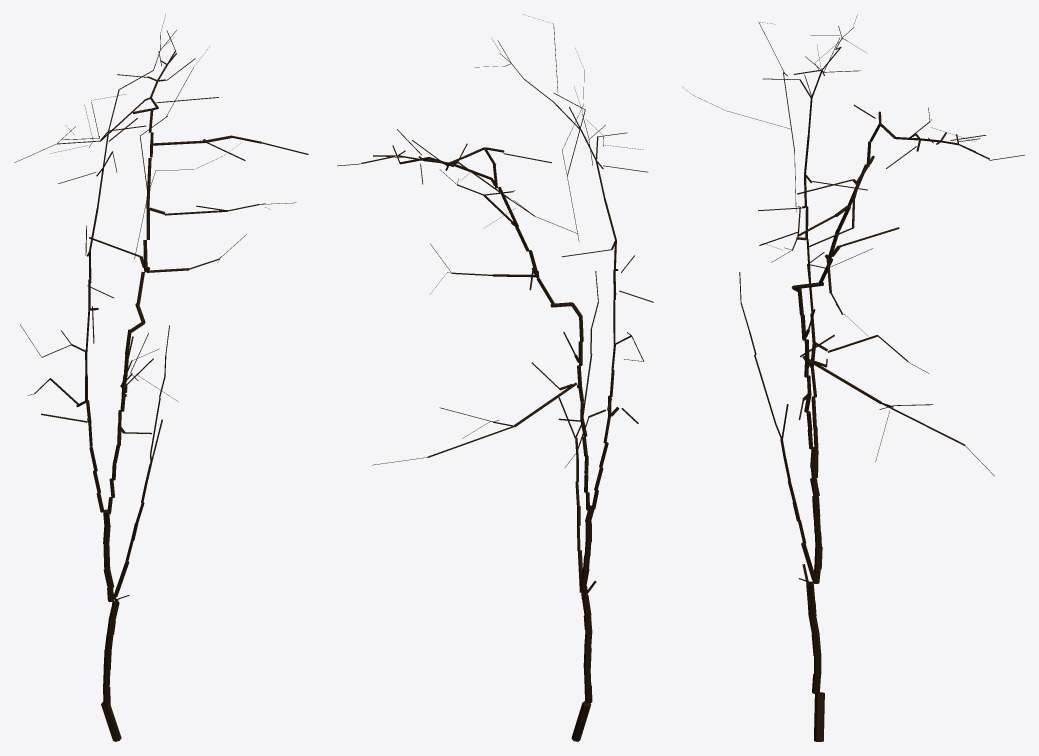
The model's file is 2022_tree_559_no_leaf.obj.
3 renders of one model, left to right at view 1: azimuth 30°, elevation 25°; view 2: azimuth 150°, elevation 25°; view 3: azimuth 270°, elevation 25°, orthographic. The views are drawn at different scales.
Visible parts, largest first — view 1: TrunkAndBranches; view 2: TrunkAndBranches; view 3: TrunkAndBranches.
Part boxes in pixels (bbox=[...]): TrunkAndBranches: bbox=[14, 14, 308, 741]; TrunkAndBranches: bbox=[337, 14, 653, 741]; TrunkAndBranches: bbox=[683, 14, 1024, 741].
Bounding box in the file's own units: 3.6 × 9.23 × 3.76.
